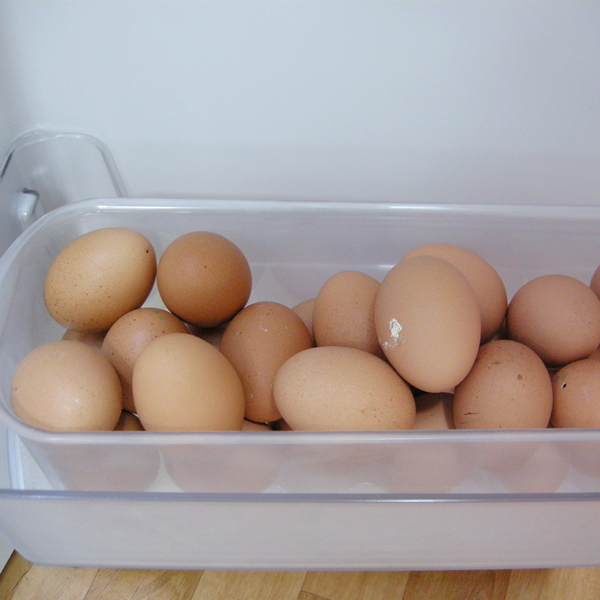egg: (10, 226, 600, 439)
